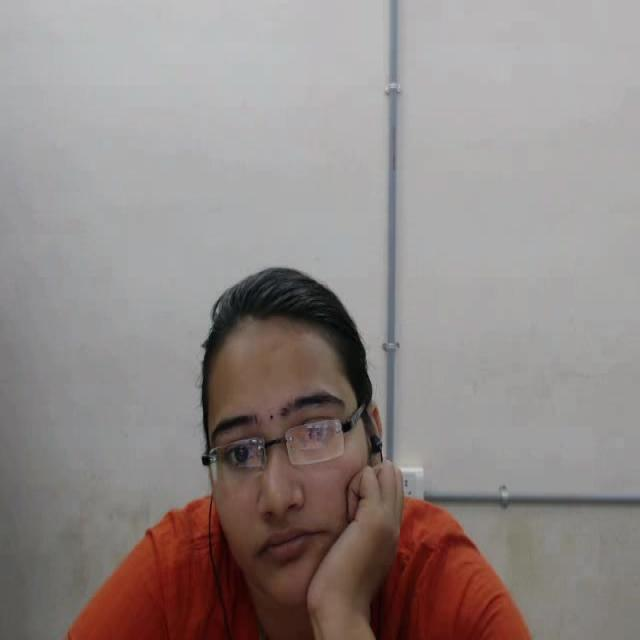Bored: (160, 246, 483, 640)
